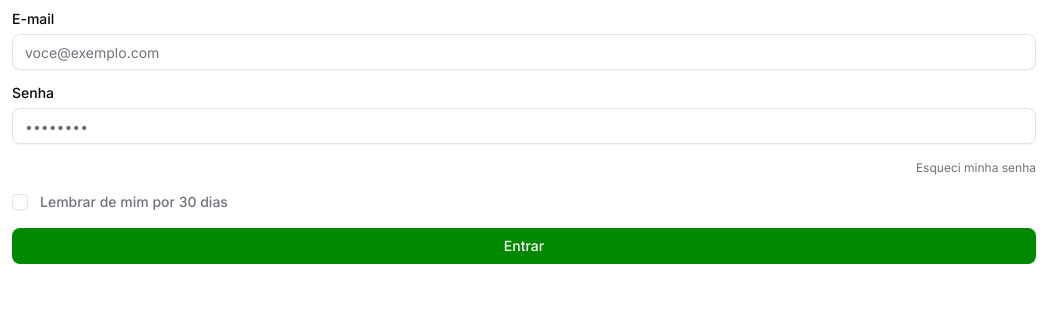
Test case: LoginForm › exibe erro de validacao para senha curta ao submeter
Type "a@b.com" into the field with placeholder "voce@exemplo.com".
click(524, 52); type("a@b.com")  # box [12,34,1036,70]
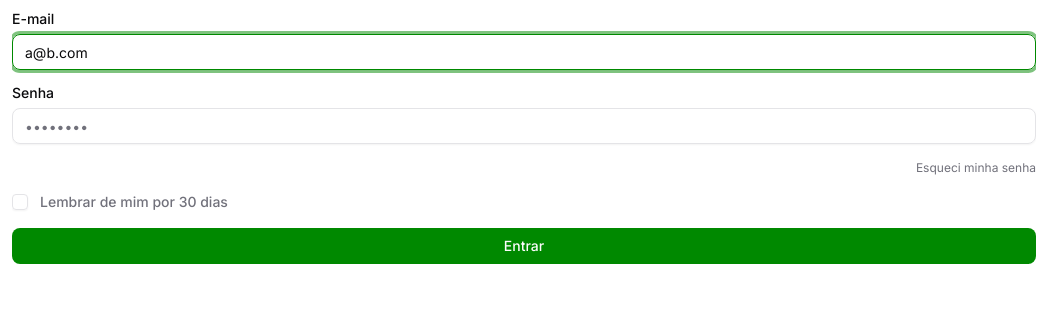
Type "123" into the password field with placeholder "••••••••".
click(524, 126); type("123")  # box [12,108,1036,144]
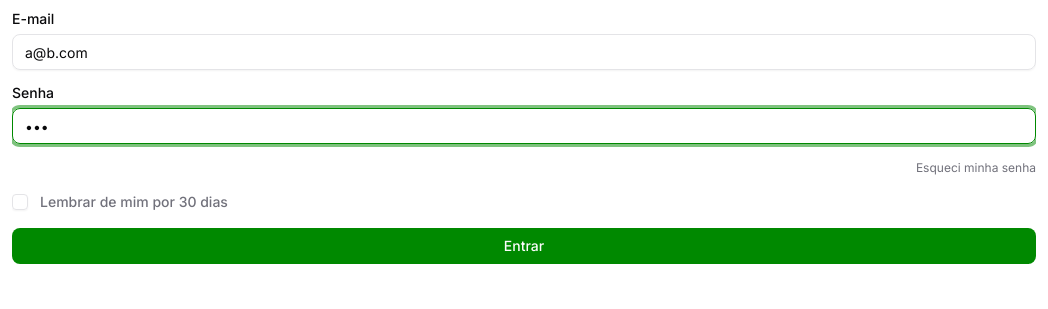
Click the button "Entrar".
click(524, 246)  # box [12,228,1036,264]
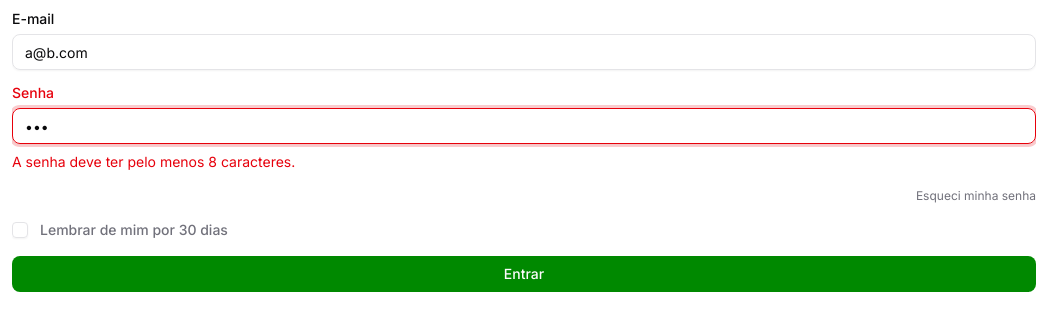
Now the text "A senha deve ter pelo menos 8 caracteres." is shown, box [12,153,295,170]
